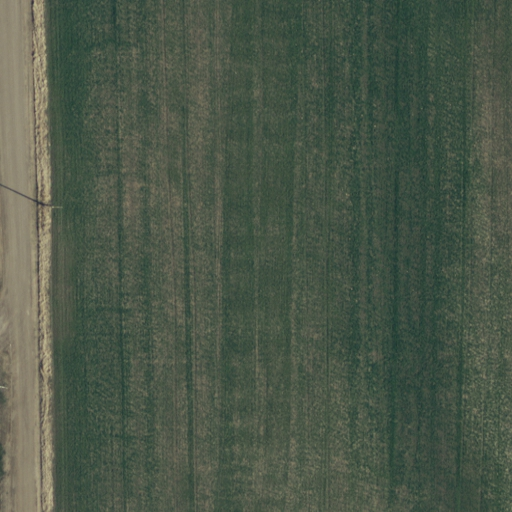DT: (30, 193, 71, 221)
